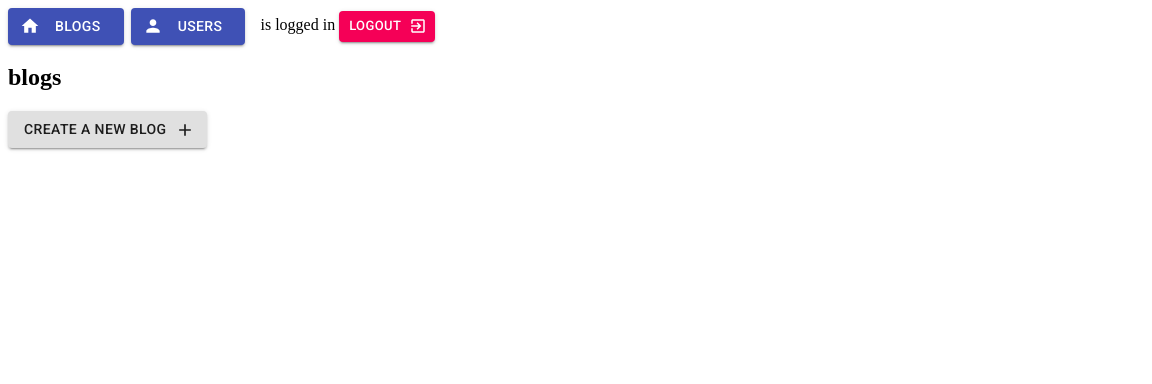
Test: Blog app › When logged in › A blog can be created
The image size is (1152, 384).
Expected: the link "blogs" is shown, [55,18,101,34]
Click the button "create a new blog" at (108,130), box [8,111,207,148]
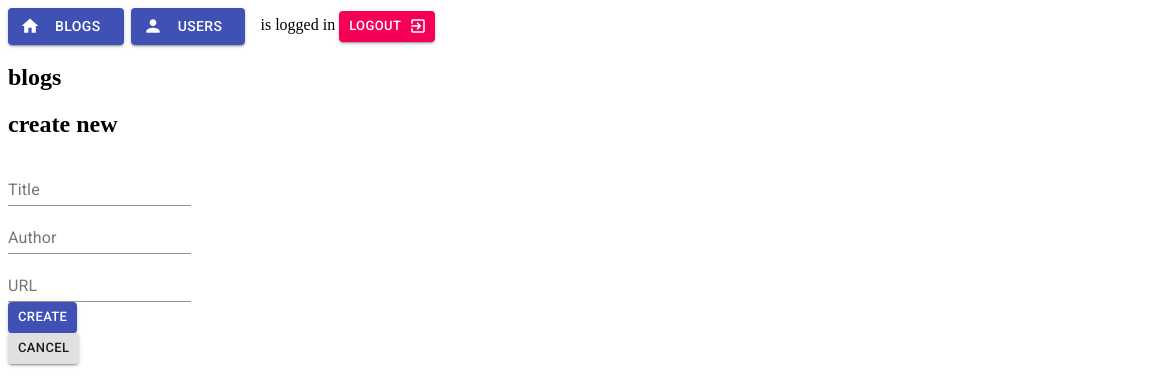
Type "CypressTitle" into the field with id "title" at (100,190), box [8,174,191,206]
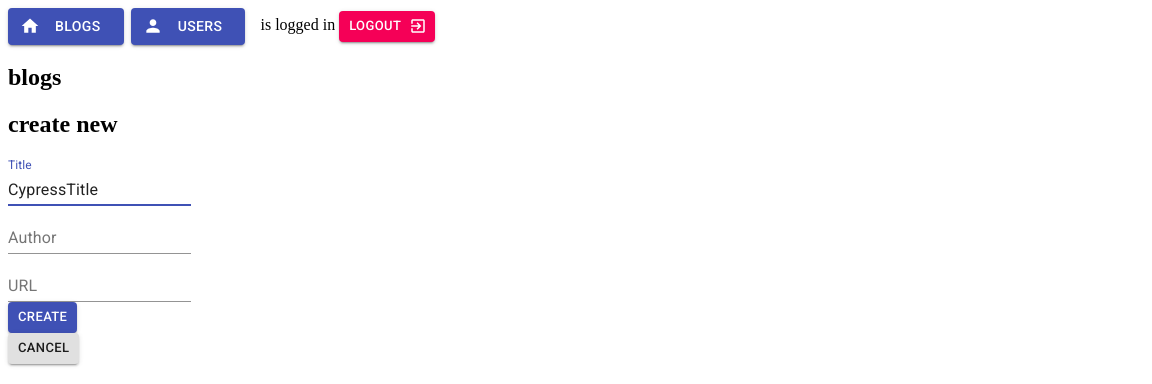
Type "Cypress" into the field with id "author" at (100,238), box [8,222,191,254]
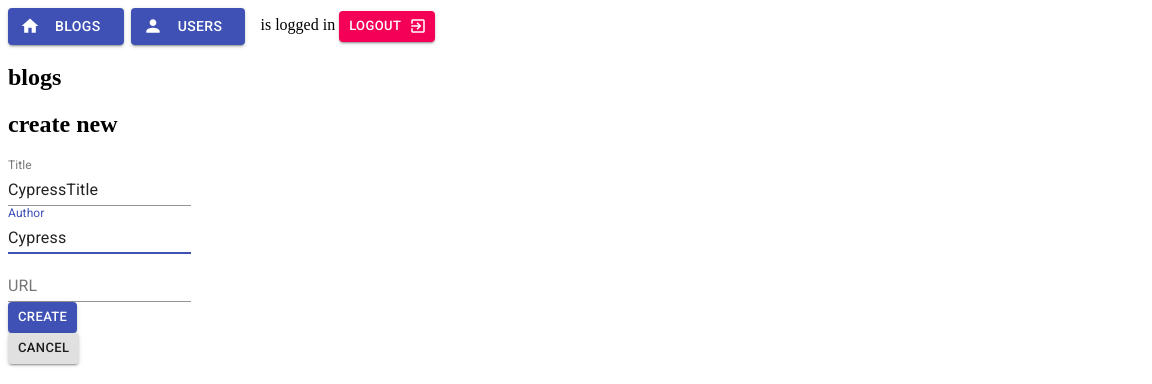
Type "Cypress.com" into the field with id "url" at (100,286), box [8,270,191,302]
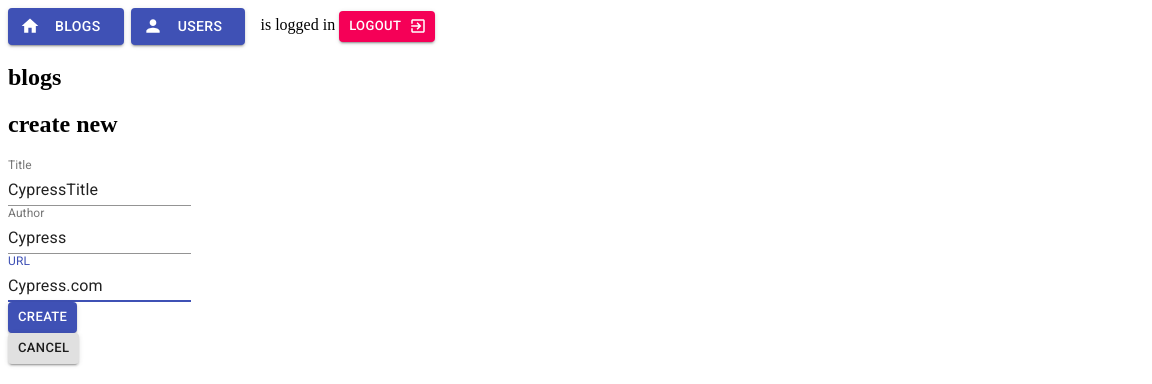
Click the button with id "submitBlog" at (43,318), box [8,302,77,333]
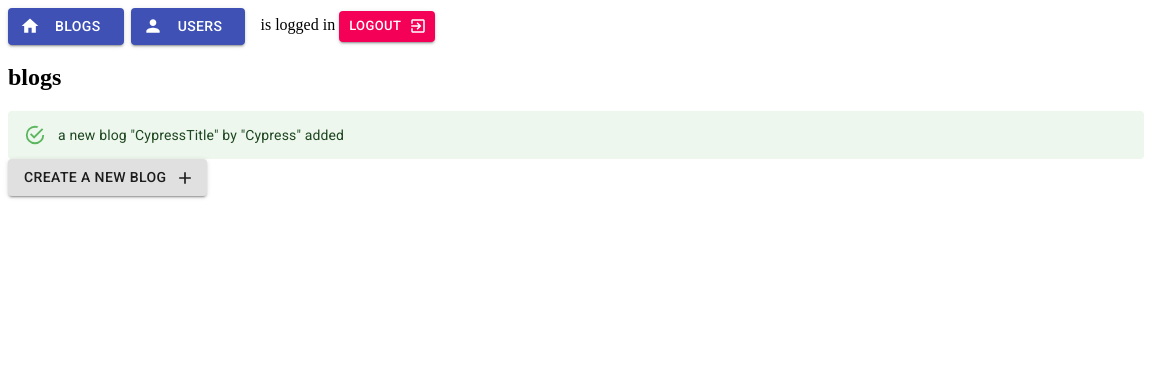
Expected: the text "added" is shown, [58,127,344,143]
Expected: the button "create a new blog" is shown, [8,159,207,196]
